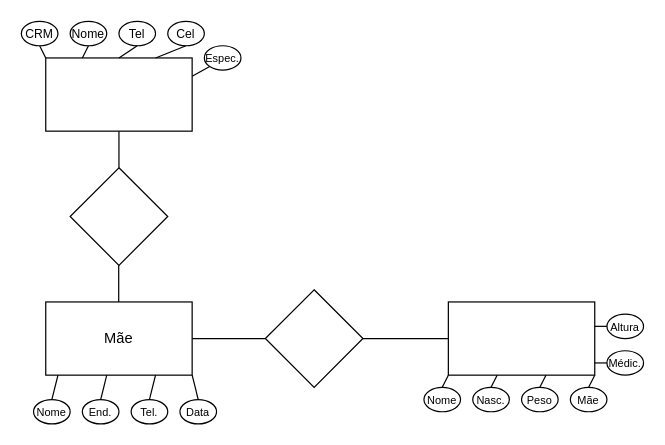
Image size: 665x445. Some labels were removed from this diagram. Each missing label, with the centre of its shape:
Ajudar: (x=118, y=216)
Bebê: (x=521, y=338)
Médico: (x=118, y=94)
Parir: (x=313, y=338)
